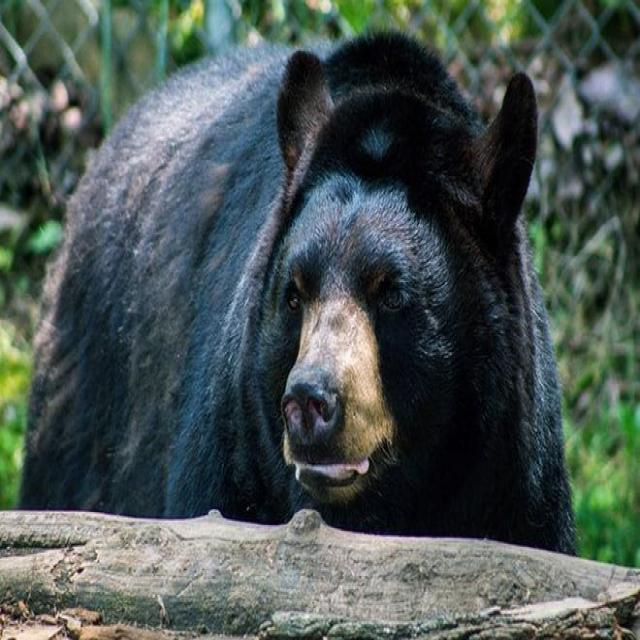Bear: (18, 29, 578, 557)
